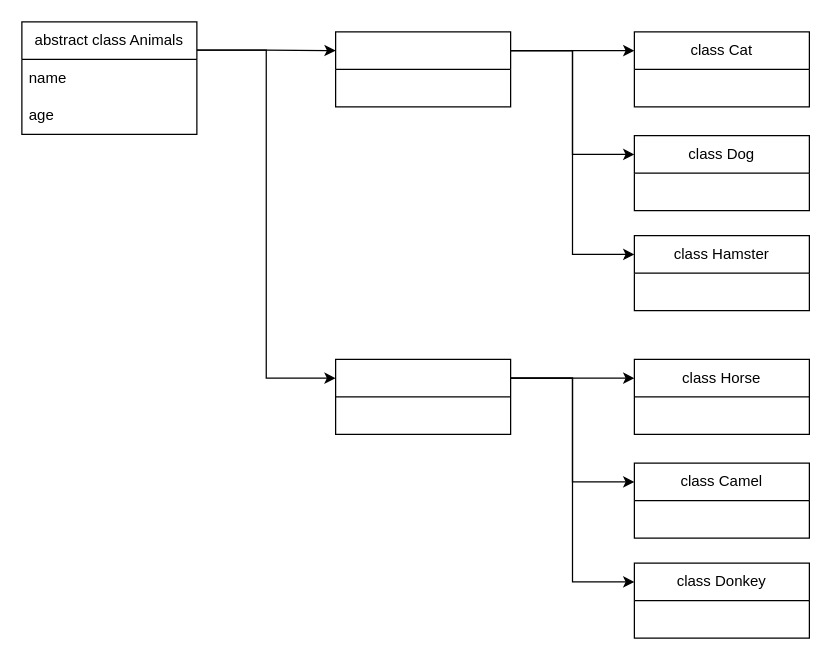
The diagram is 831 pixels wide and 660 high, and some of its shapes have lost their labels. Here are the shapes that lost their labels. From the top down, the centre of each, then its label:
(x=422, y=69): class HomeAnimals
(x=422, y=396): class PackAnimals
